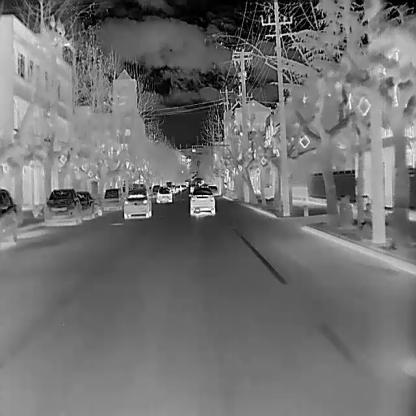car: (44, 187, 81, 224), (0, 187, 20, 242), (123, 188, 152, 217), (188, 187, 214, 216), (74, 191, 95, 220), (102, 187, 122, 211), (155, 186, 171, 202)
